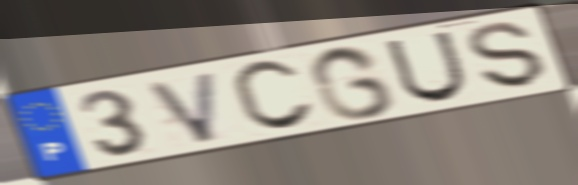3: (78, 86, 155, 159)
C: (228, 57, 319, 134)
G: (306, 43, 400, 122)
S: (466, 19, 551, 90)
U: (381, 28, 471, 105)
V: (142, 68, 221, 147)
